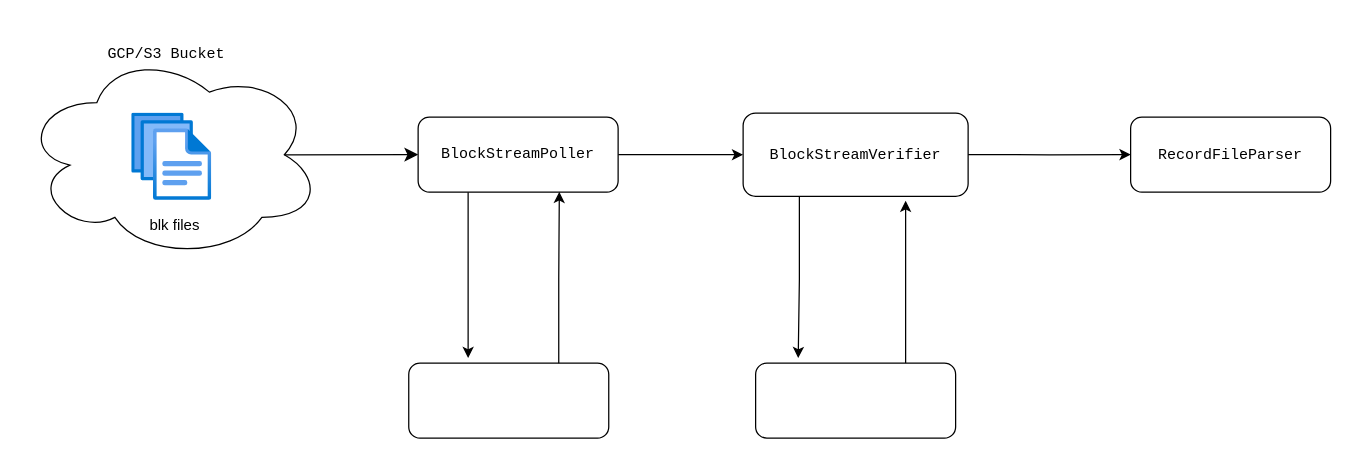
This 1353x460 diagram has some shape labels left out. Here are the shapes that lost their labels. From the top down, the box of each, then its label:
(408, 362, 609, 438): BlockStreamReader
(754, 362, 956, 438): Translator
